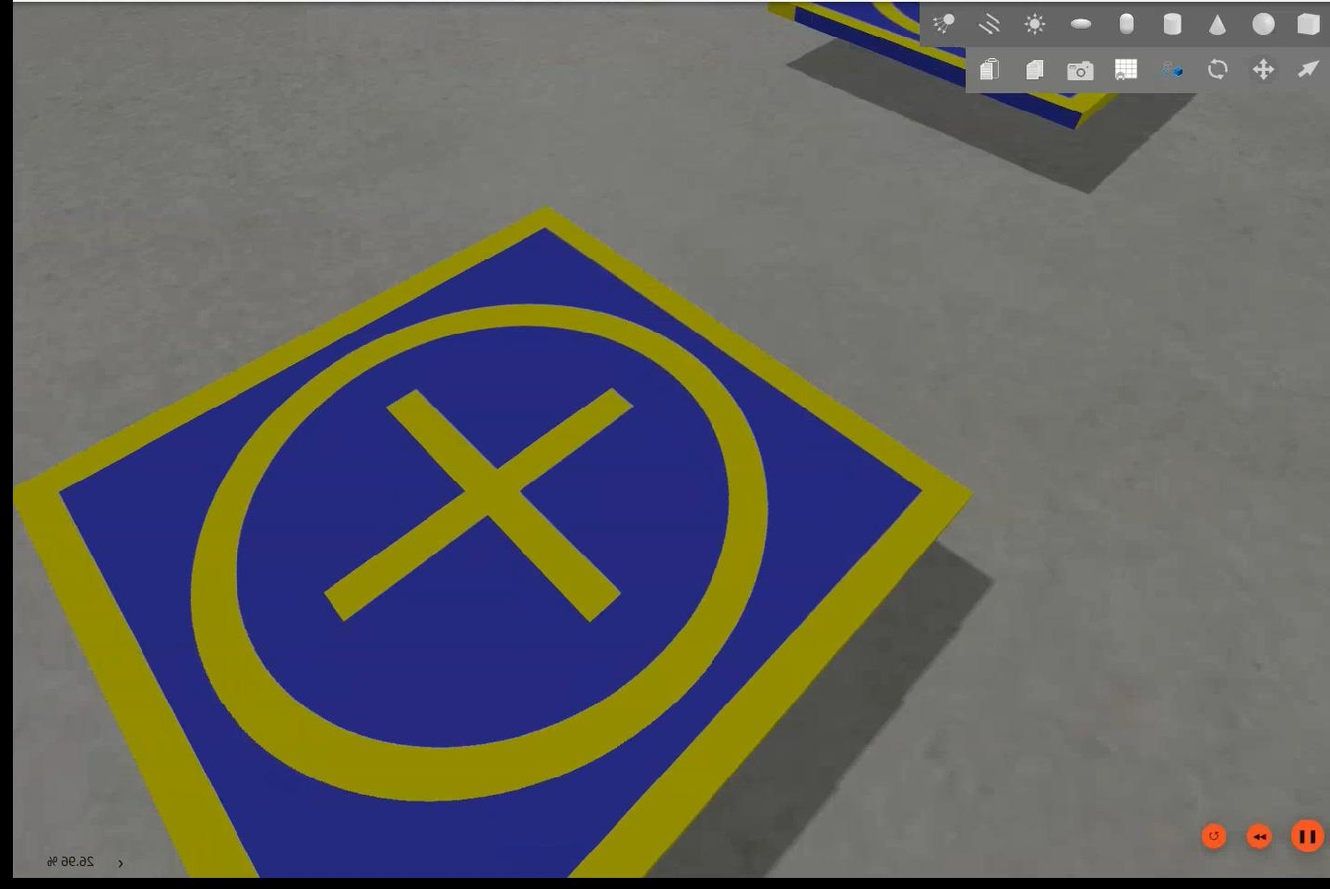small_base: (10, 201, 979, 883)
